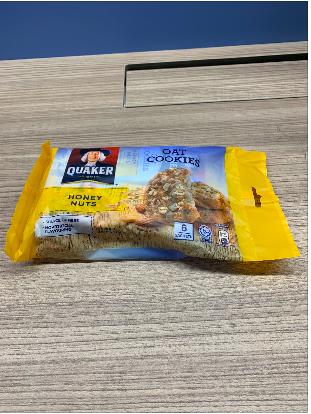Cookies_100-199g: (27, 147, 261, 250)
